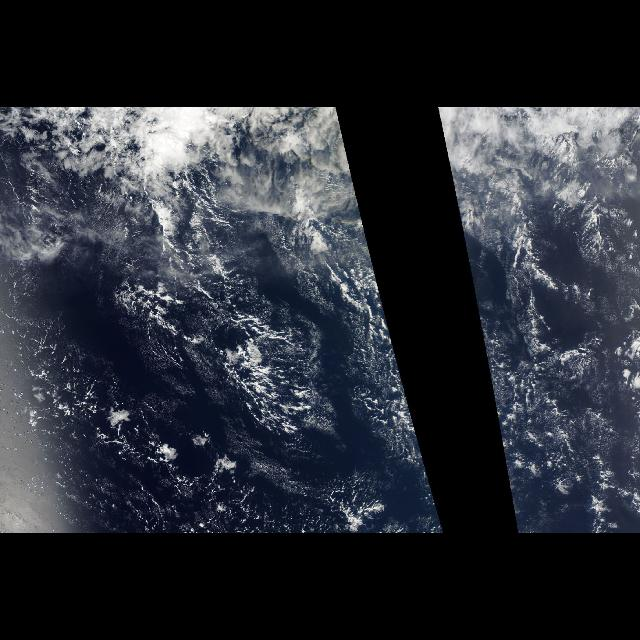Gravel: (462, 235, 640, 373), (313, 235, 402, 373)
